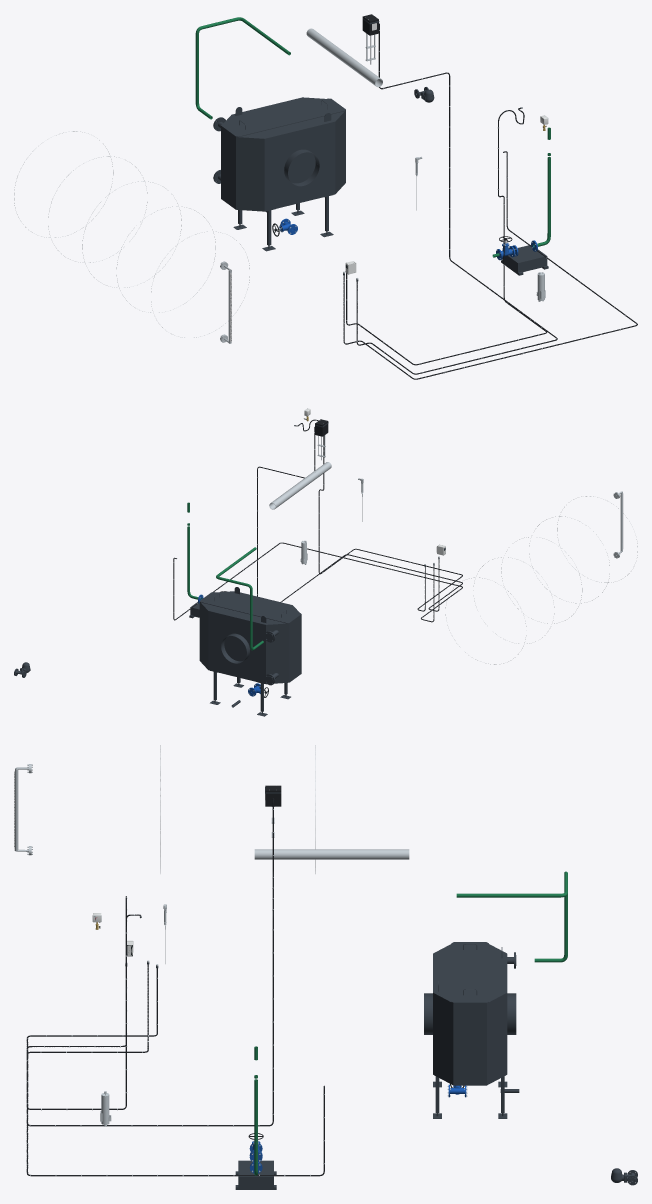
File: s4000-2-QCtT8-H6.glb
3 renders of one model, top to bottom at view 1: azimuth 30°, elevation 25°; view 2: azimuth 150°, elevation 25°; view 3: azimuth 270°, elevation 25°, orthographic. The views are drawn at different scales.
Visible parts, largest first — view 1: EQS2-3000 CAD 0, EQS2-3000 CAD 3, EQS2-3000 CAD 1, gpz_drive_cable / black, wiring_pump_2 / black, wiring_pressure_switch_3 / black, pump_branch_1 / dark, deaerator_details / steel, from_economizer / green, steam_delivery / steel; view 2: EQS2-3000 CAD 0, EQS2-3000 CAD 3, EQS2-3000 CAD 2, wiring_pump_2 / black, gpz_drive_cable / black, wiring_pressure_switch_3 / black, deaerator_details / steel, from_economizer / green, steam_delivery / steel; view 3: EQS2-3000 CAD 3, steam_delivery / steel, EQS2-3000 CAD 0, gpz_drive_cable / black, wiring_pump_2 / black, wiring_pressure_switch_3 / black, from_economizer / green, pump_branch_1 / dark, deaerator_details / steel.
Part boxes in pixels (x1,y1,x2,y2): EQS2-3000 CAD 0: (233, 121, 335, 251); EQS2-3000 CAD 3: (221, 97, 345, 209); EQS2-3000 CAD 1: (236, 137, 264, 211); gpz_drive_cable / black: (356, 23, 557, 374); wiring_pump_2 / black: (343, 151, 637, 379); wiring_pressure_switch_3 / black: (346, 107, 547, 365); pump_branch_1 / dark: (501, 245, 548, 275); deaerator_details / steel: (14, 131, 249, 343); from_economizer / green: (195, 17, 290, 119); steam_delivery / steel: (306, 28, 364, 73); EQS2-3000 CAD 0: (208, 611, 290, 716); EQS2-3000 CAD 3: (199, 587, 301, 682); EQS2-3000 CAD 2: (264, 623, 289, 685); wiring_pump_2 / black: (173, 542, 462, 622); gpz_drive_cable / black: (257, 427, 462, 611); wiring_pressure_switch_3 / black: (295, 419, 462, 611); deaerator_details / steel: (445, 491, 637, 664); from_economizer / green: (216, 547, 263, 650); steam_delivery / steel: (269, 471, 318, 509); EQS2-3000 CAD 3: (433, 942, 507, 1085); steam_delivery / steel: (291, 849, 409, 859); EQS2-3000 CAD 0: (424, 993, 516, 1118); gpz_drive_cable / black: (26, 800, 273, 1126); wiring_pump_2 / black: (26, 964, 324, 1176); wiring_pressure_switch_3 / black: (26, 896, 157, 1109); from_economizer / green: (456, 871, 567, 962); pump_branch_1 / dark: (235, 1160, 276, 1189); deaerator_details / steel: (14, 745, 315, 873).
Bounding box in the file's own units: 7.46 × 3.81 × 6.88.
